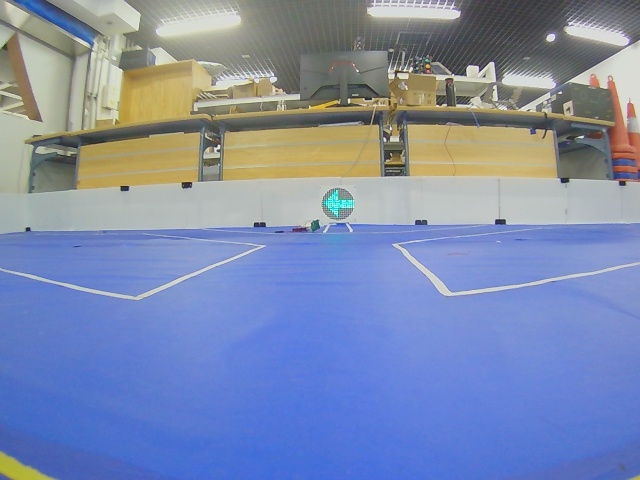left_green: (322, 188, 355, 221)
